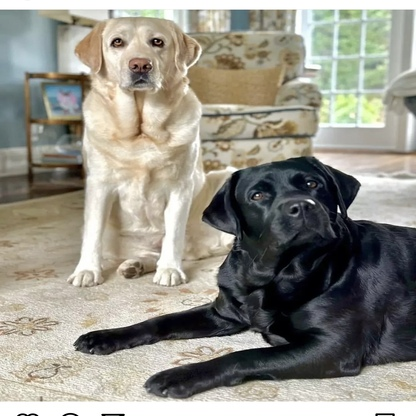labrado: (70, 151, 416, 399), (61, 15, 206, 290)
